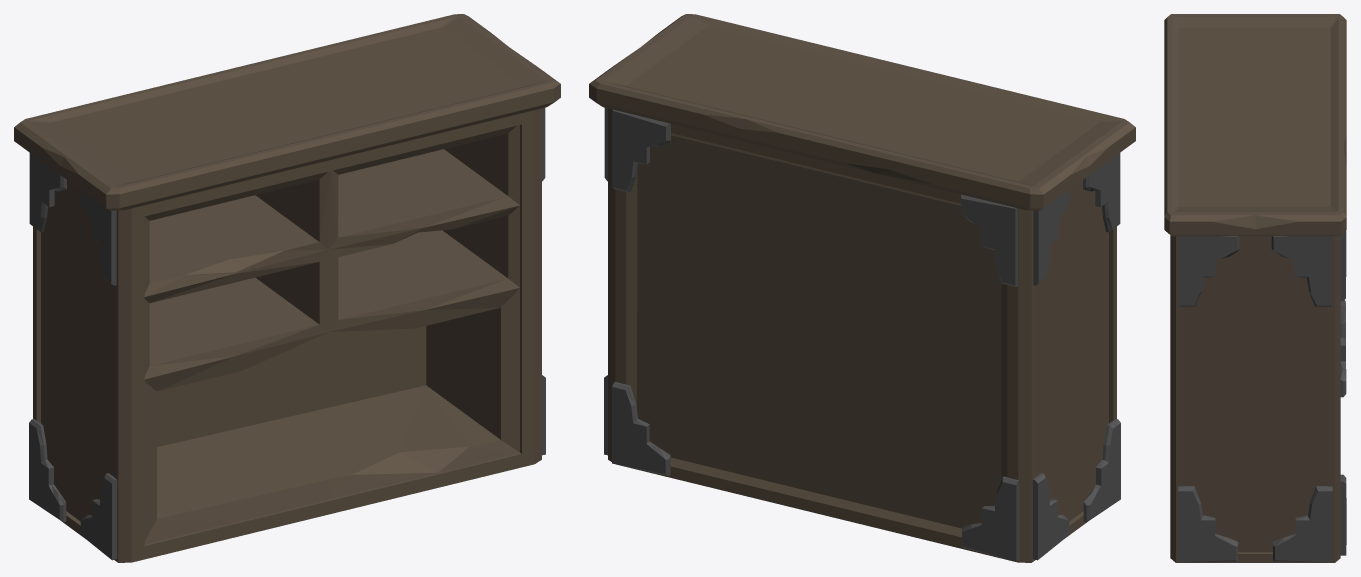
Rendered from Shelving_005.fbx.
The picture shows the model from 3 angles, left to right: view 1: azimuth 30°, elevation 25°; view 2: azimuth 150°, elevation 25°; view 3: azimuth 270°, elevation 25°; orthographic projection. The views are drawn at different scales.
Parts seen in each view (by area): view 1: Shelving_005; view 2: Shelving_005; view 3: Shelving_005.
Part boxes in pixels (left/top/right/bottom): Shelving_005: left=14, top=14, right=560, bottom=562; Shelving_005: left=589, top=14, right=1135, bottom=562; Shelving_005: left=1164, top=14, right=1346, bottom=562.
Bounding box in the file's own units: 1.15 × 0.9119 × 0.4284.
